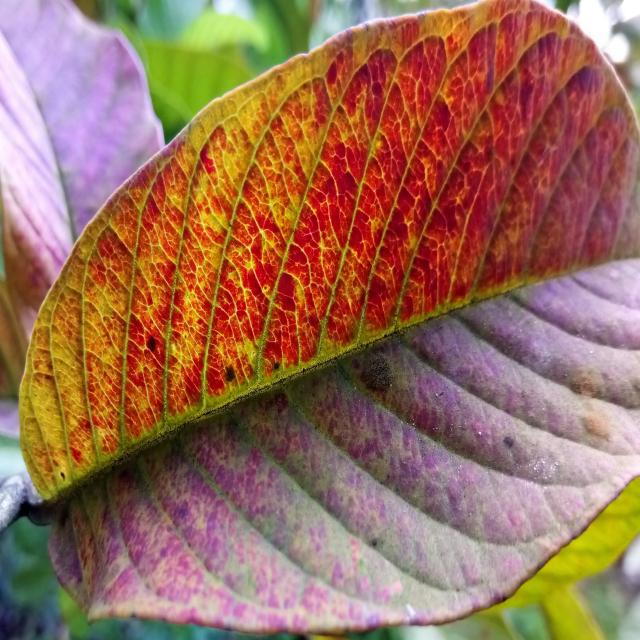Red Rust: (20, 2, 640, 632)
